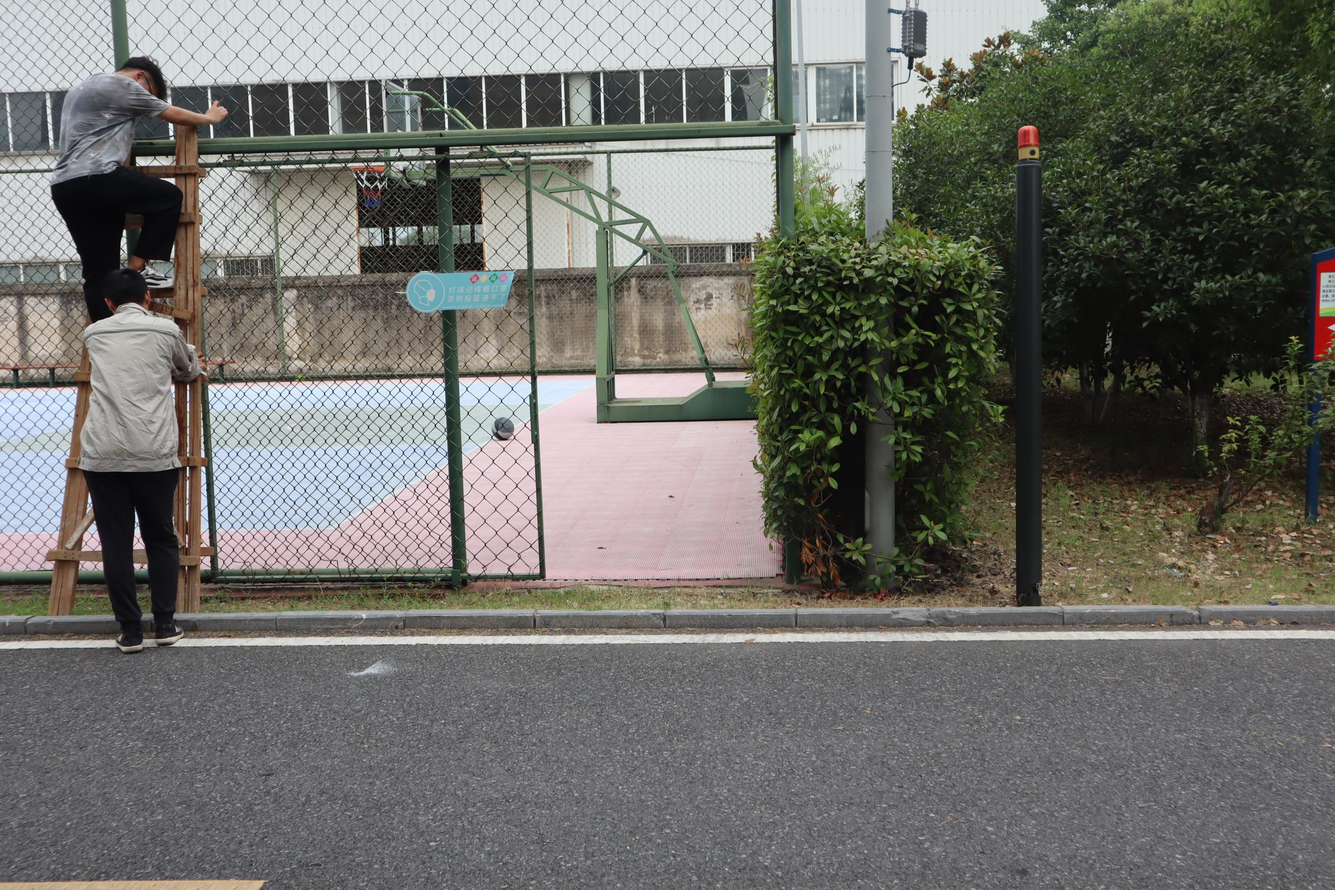安全帽、安全绳，工作服均未佩戴的工作人员: (51, 52, 230, 327)
未带安全帽的工作人员: (77, 265, 206, 651)
